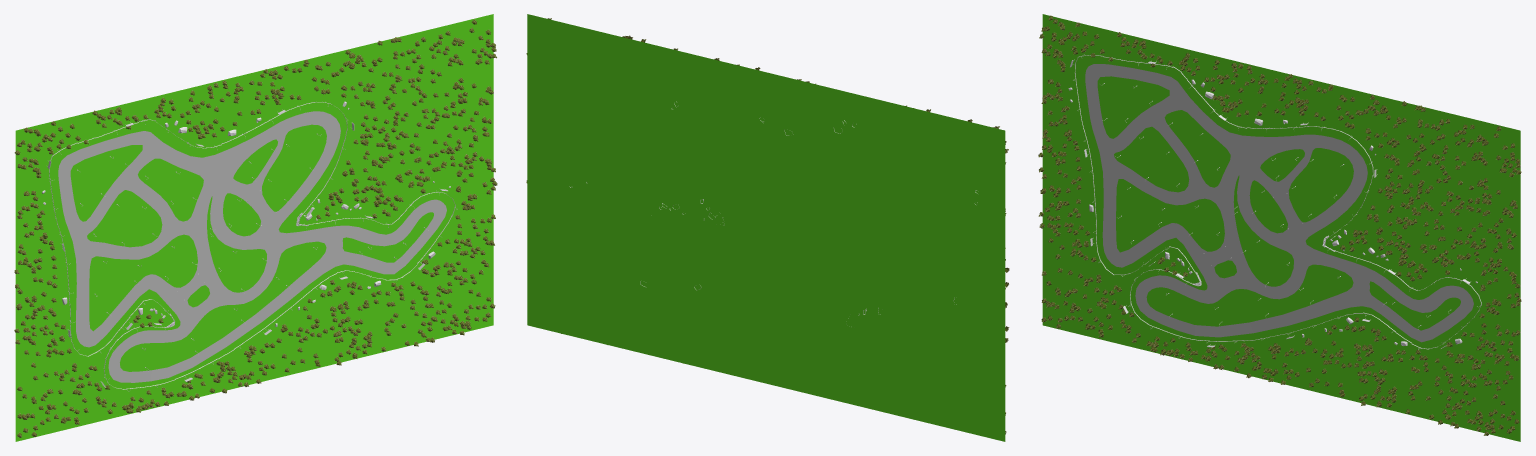
The model's file is CIRCUIT.fbx.
3 views of the same model, side by side, from view 1: azimuth 30°, elevation 25°; view 2: azimuth 150°, elevation 25°; view 3: azimuth 330°, elevation 25° (orthographic).
Parts seen in each view (by area): view 1: Plane.003, Plane.002, Plane.004, Rembarde.001; view 2: Plane.003; view 3: Plane.003, Plane.002, Plane.004, Rembarde.001.
Part boxes in pixels (x1,y1,x2,y2): Plane.003: (15,14,493,441); Plane.002: (58,111,446,382); Plane.004: (14,19,497,437); Rembarde.001: (49,101,455,389); Plane.003: (527,14,1005,441); Plane.003: (1042,14,1520,441); Plane.002: (1085,64,1473,342); Plane.004: (1038,15,1521,435); Rembarde.001: (1074,55,1481,349).
Bounding box in the file's own units: 38997 × 24323 × 628.
